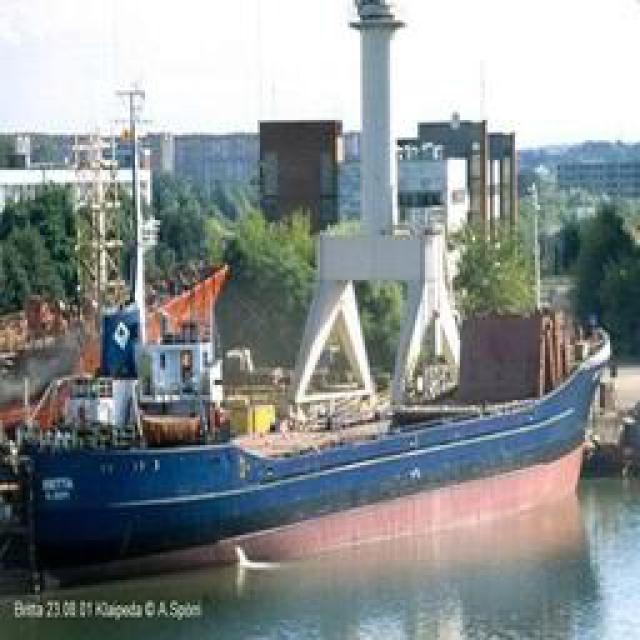Ship: (15, 207, 613, 585)
